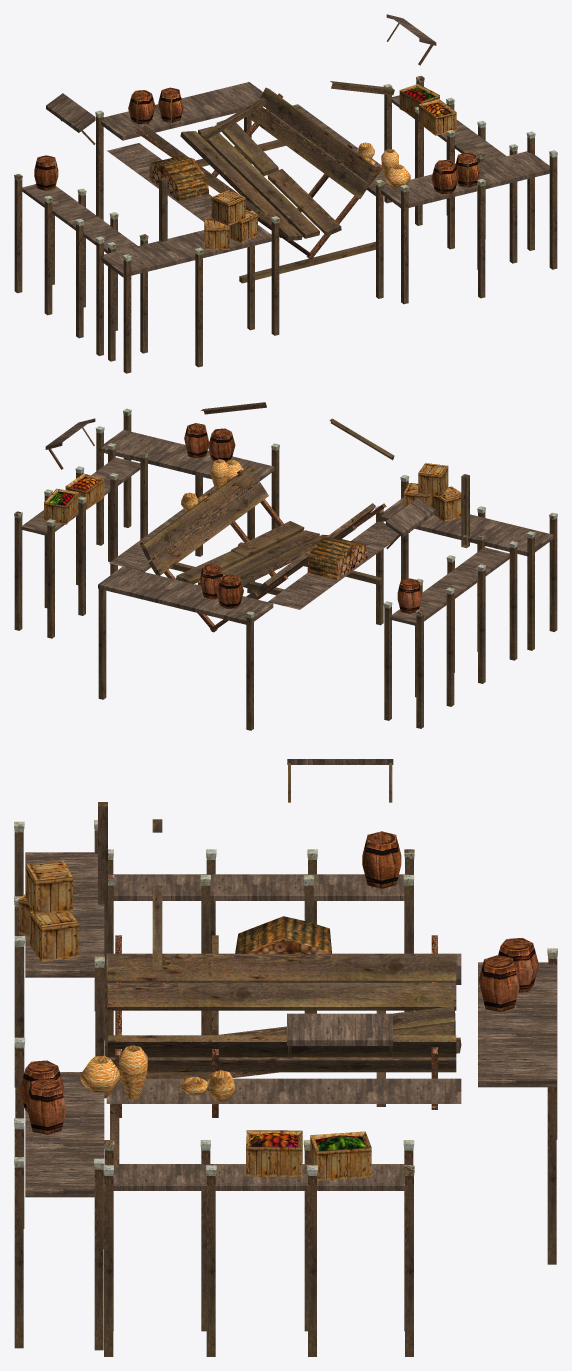
File: kart_dock_a.dae
3 renders of one model, top to bottom at view 1: azimuth 30°, elevation 25°; view 2: azimuth 150°, elevation 25°; view 3: azimuth 270°, elevation 25°, orthographic. The views are drawn at different scales.
Parts seen in each view (by area): view 1: default14; view 2: default14; view 3: default14.
Boxes of the visible parts, x1,y1,x2,y2 form: default14: [14, 14, 557, 373]; default14: [14, 402, 557, 730]; default14: [14, 759, 557, 1356].
Bounding box in the file's own units: 33.1 × 15.58 × 22.16.
